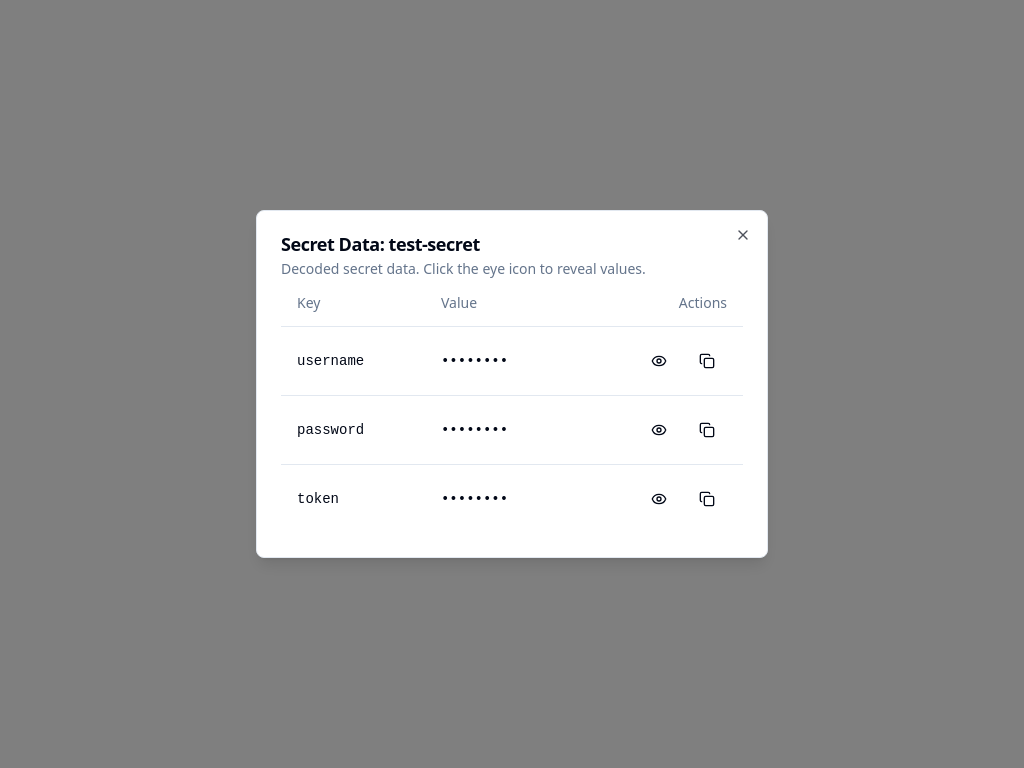
Test: SecretDataModal › hides secret value when eye-off icon is clicked
Reveal first value
Click the button named "Reveal value" in the row of "username": (659,361) [639,343,679,379]
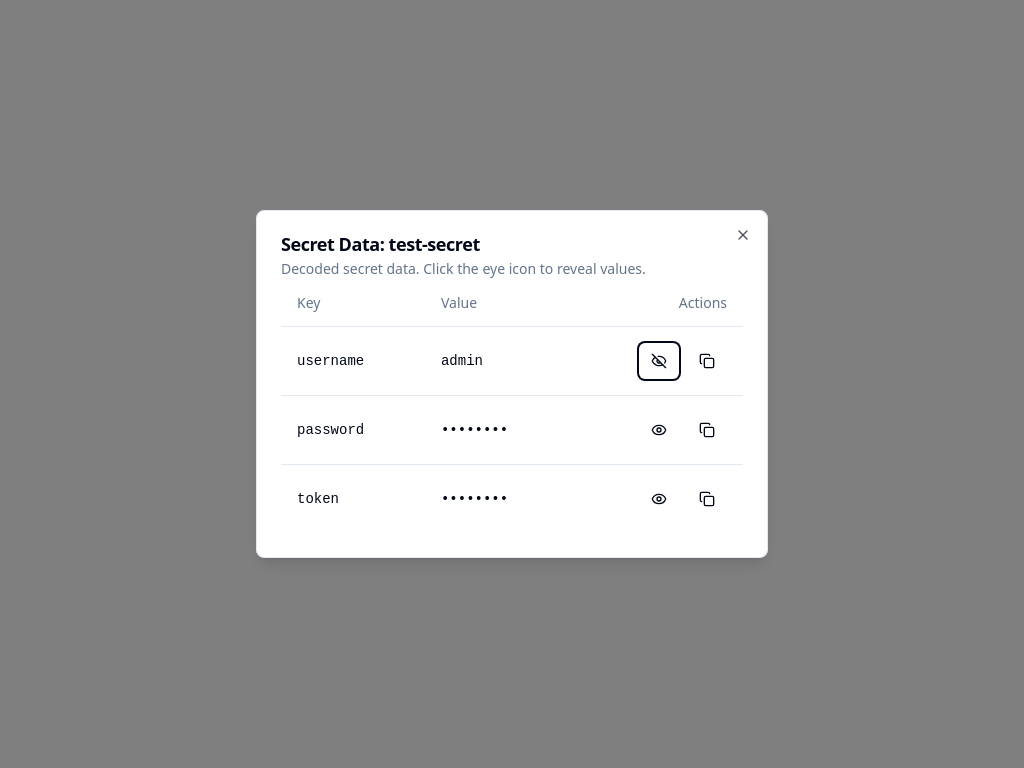
Result: the text "admin" is shown at [425,327,569,396]
Hide it again
Click the button named "Hide value": (659,361) [639,343,679,379]
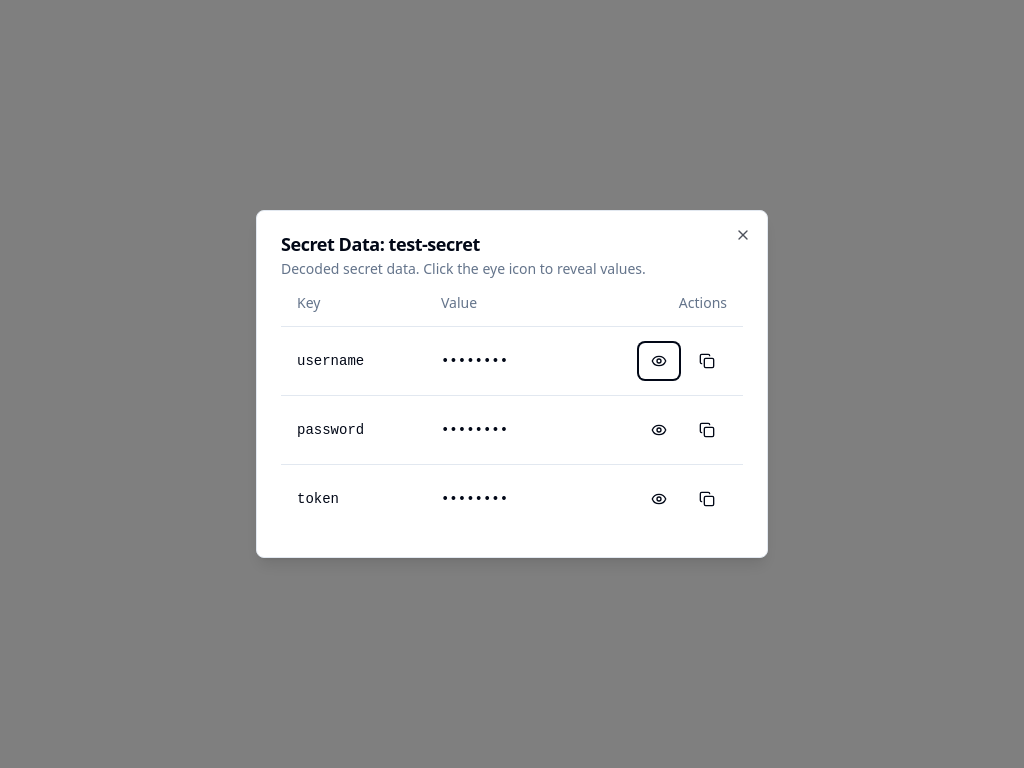
Result: the text "admin" is gone
